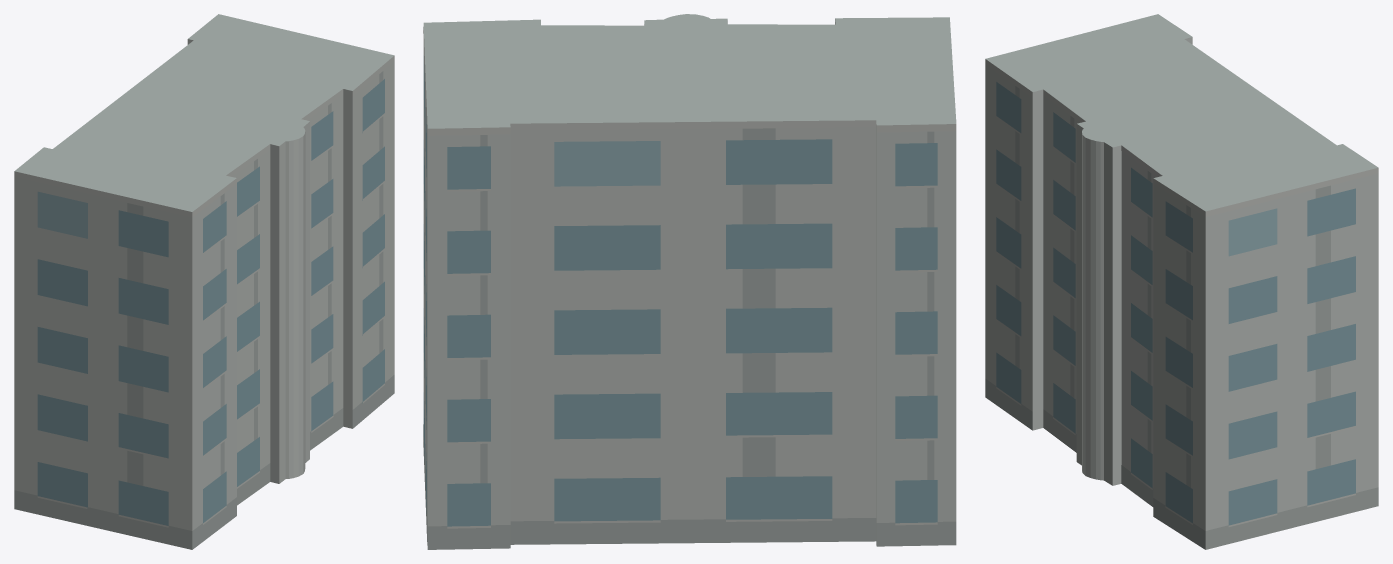
The model's file is survey-upis-32734165.glb.
3 views of the same model, side by side, from view 1: azimuth 30°, elevation 25°; view 2: azimuth 150°, elevation 25°; view 3: azimuth 270°, elevation 25° (orthographic). The views are drawn at different scales.
Visible parts, largest first — view 1: survey-upis-32734165.tmp; view 2: survey-upis-32734165.tmp; view 3: survey-upis-32734165.tmp.
Boxes of the visible parts, x1,y1,x2,y2 form: survey-upis-32734165.tmp: (14,14,394,549); survey-upis-32734165.tmp: (423,14,956,549); survey-upis-32734165.tmp: (985,14,1378,549).
Bounding box in the file's own units: 17.9 × 14.3 × 15.07.
